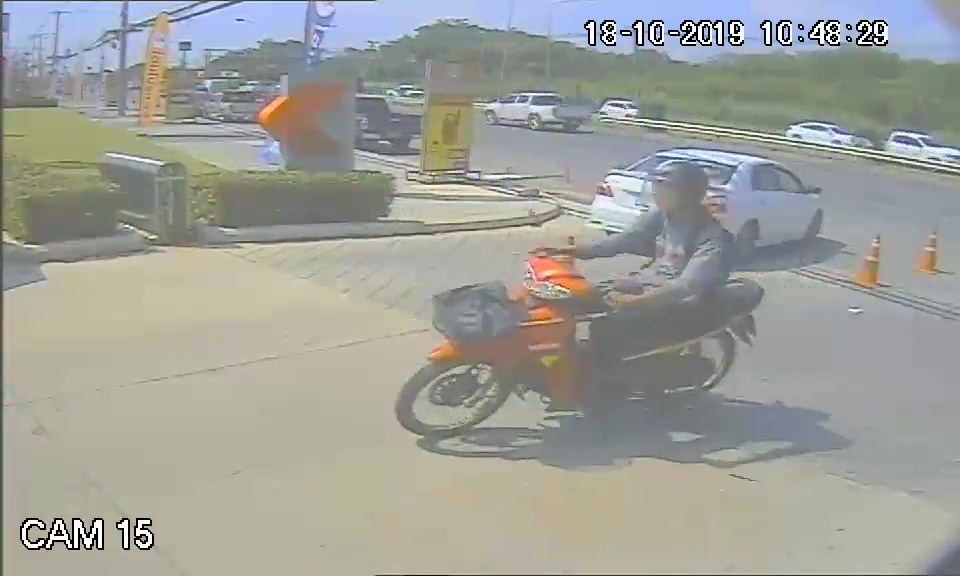motorcycle: (388, 248, 766, 441)
